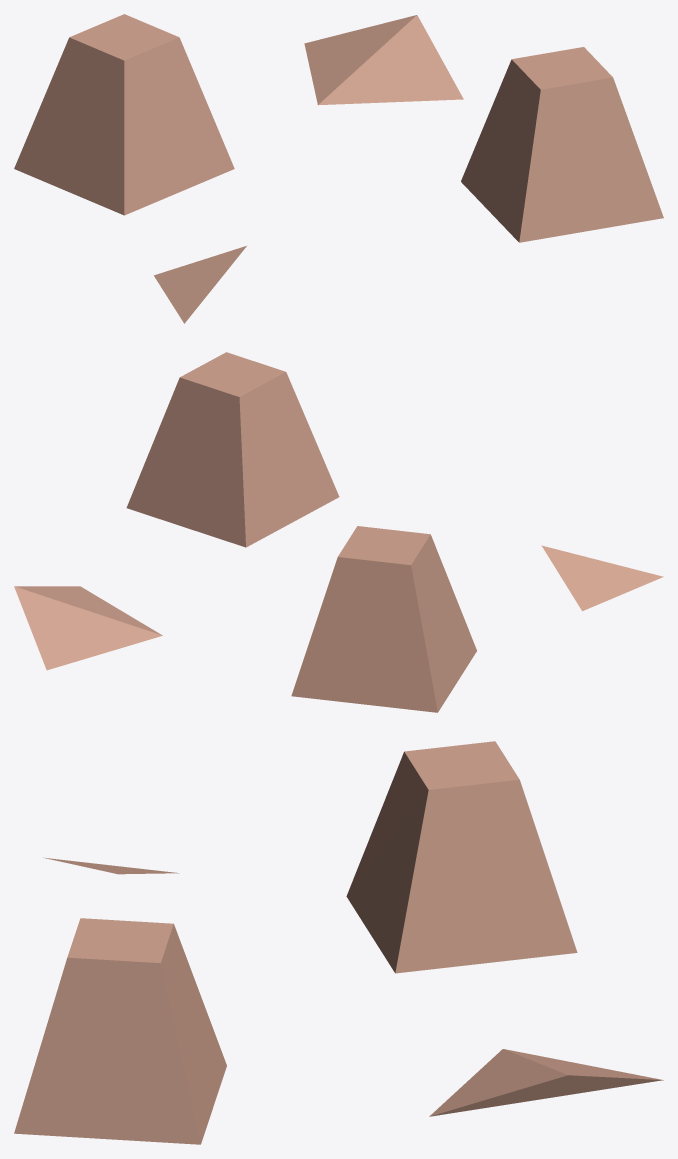
Rendered from rocks_smallB.lod.glb.
3 views of the same model, one above another, from view 1: azimuth 30°, elevation 25°; view 2: azimuth 150°, elevation 25°; view 3: azimuth 270°, elevation 25° (orthographic). The views are drawn at different scales.
Parts seen in each view (by area): view 1: rocks_smallB; view 2: rocks_smallB; view 3: rocks_smallB.
Boxes of the visible parts, bbox=[...] form: rocks_smallB: bbox=[14, 14, 663, 323]; rocks_smallB: bbox=[14, 352, 663, 712]; rocks_smallB: bbox=[14, 741, 663, 1144].
Size of the model in its own units: 0.7202 by 0.186 by 0.6888.
